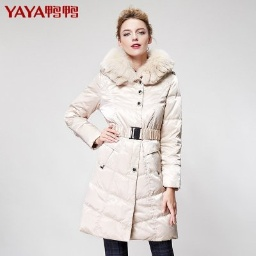face: (110, 6, 160, 64)
